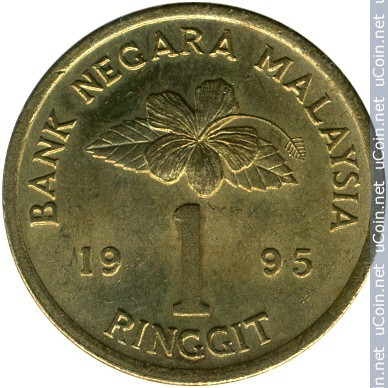1r: (1, 0, 387, 386)
